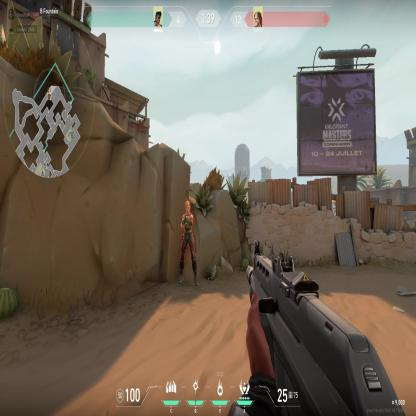enemy: (176, 198, 200, 286)
